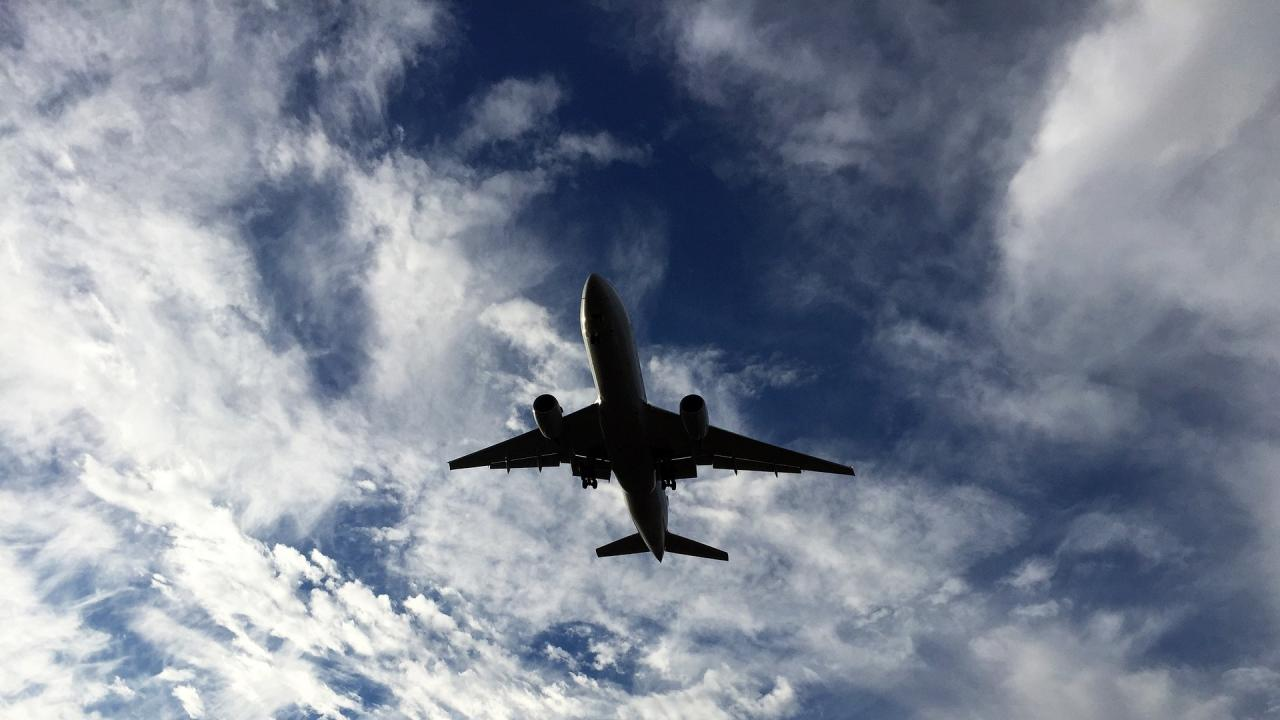Airplane: (436, 257, 868, 578)
